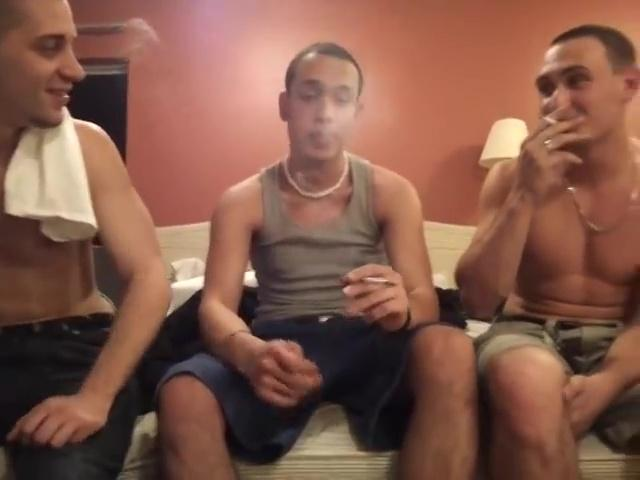cigarette: (356, 275, 401, 288), (537, 111, 564, 127)
